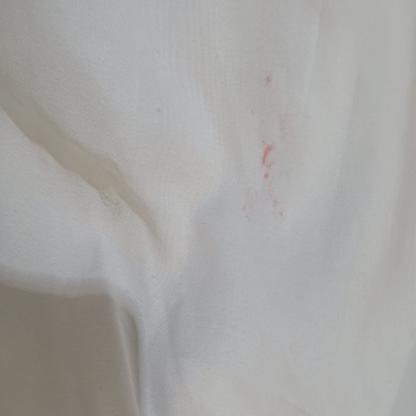spot: (97, 189, 128, 225), (247, 184, 267, 224), (260, 134, 275, 180), (262, 66, 274, 99), (272, 196, 287, 222), (153, 98, 163, 119), (151, 48, 162, 63)
